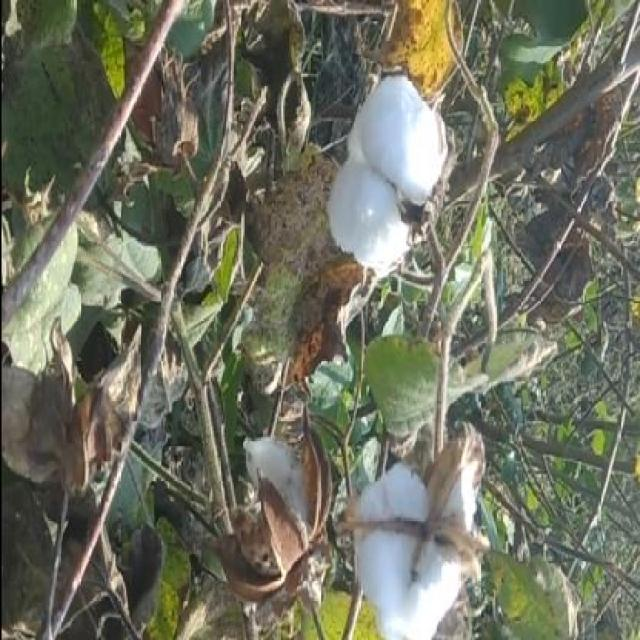cotton_ready: (330, 401, 484, 636), (317, 66, 465, 282)
